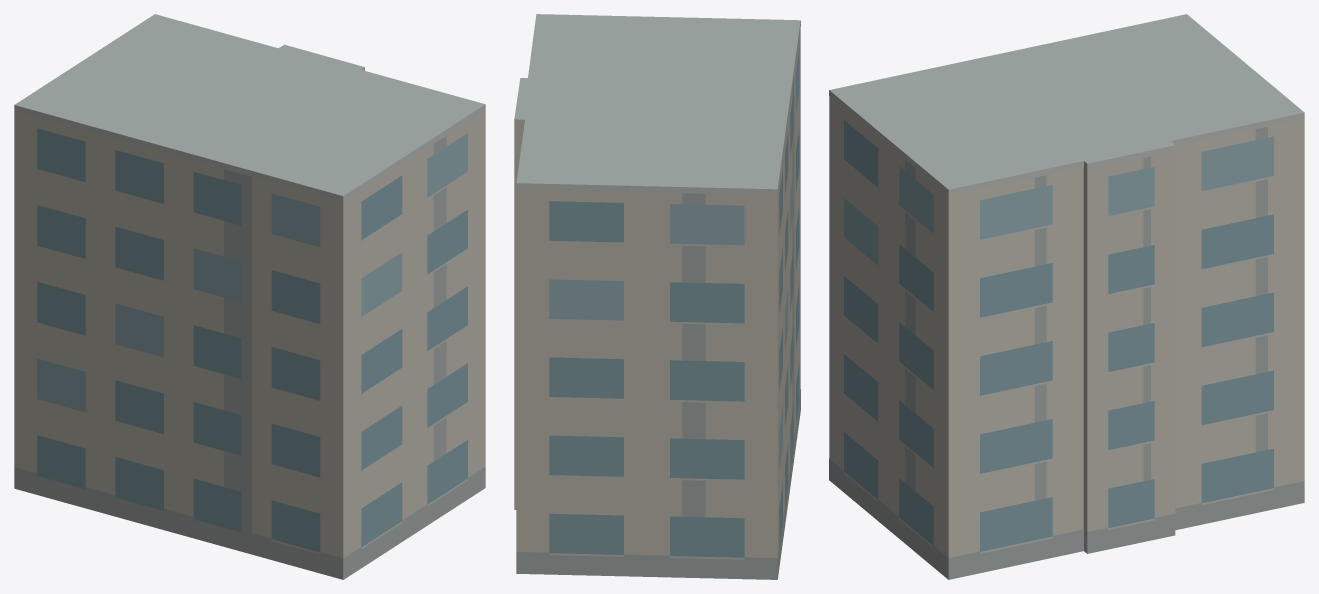
File: residential-5dc7e375-3fd5-4c8f-ba35-3cc3a38d1862.glb
3 views of the same model, side by side, from view 1: azimuth 30°, elevation 25°; view 2: azimuth 150°, elevation 25°; view 3: azimuth 270°, elevation 25° (orthographic).
Visible parts, largest first — view 1: residential-5dc7e375-3fd5-4c8f-ba35-3cc3a38d1862.tmp; view 2: residential-5dc7e375-3fd5-4c8f-ba35-3cc3a38d1862.tmp; view 3: residential-5dc7e375-3fd5-4c8f-ba35-3cc3a38d1862.tmp.
Boxes of the visible parts, bbox=[...] form: residential-5dc7e375-3fd5-4c8f-ba35-3cc3a38d1862.tmp: bbox=[14, 14, 485, 579]; residential-5dc7e375-3fd5-4c8f-ba35-3cc3a38d1862.tmp: bbox=[514, 14, 800, 579]; residential-5dc7e375-3fd5-4c8f-ba35-3cc3a38d1862.tmp: bbox=[829, 14, 1304, 579].
Size of the model in its own units: 14.74 by 15.25 by 16.85.
